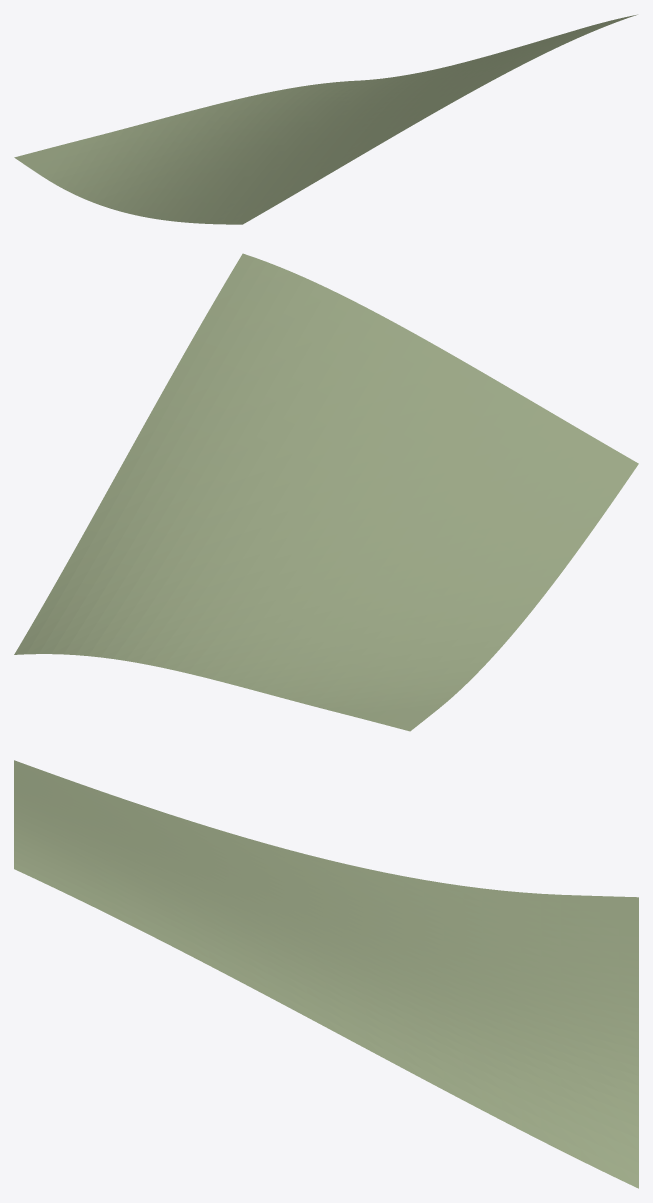
The model's file is expanse-14-2.glb.
The picture shows the model from 3 angles, top to bottom: view 1: azimuth 30°, elevation 25°; view 2: azimuth 150°, elevation 25°; view 3: azimuth 270°, elevation 25°; orthographic projection. The views are drawn at different scales.
Visible parts, largest first — view 1: expanse-14-2; view 2: expanse-14-2; view 3: expanse-14-2.
Boxes of the visible parts, left/top/right/bottom form: expanse-14-2: left=14, top=14, right=637, bottom=224; expanse-14-2: left=14, top=253, right=638, bottom=731; expanse-14-2: left=14, top=760, right=638, bottom=1188.
Bounding box in the file's own units: 256 × 145 × 256.
